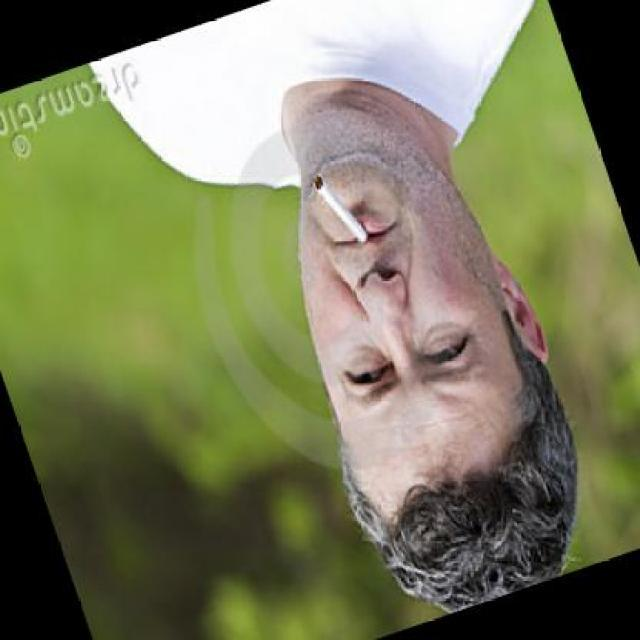cigarette: (307, 162, 370, 252)
